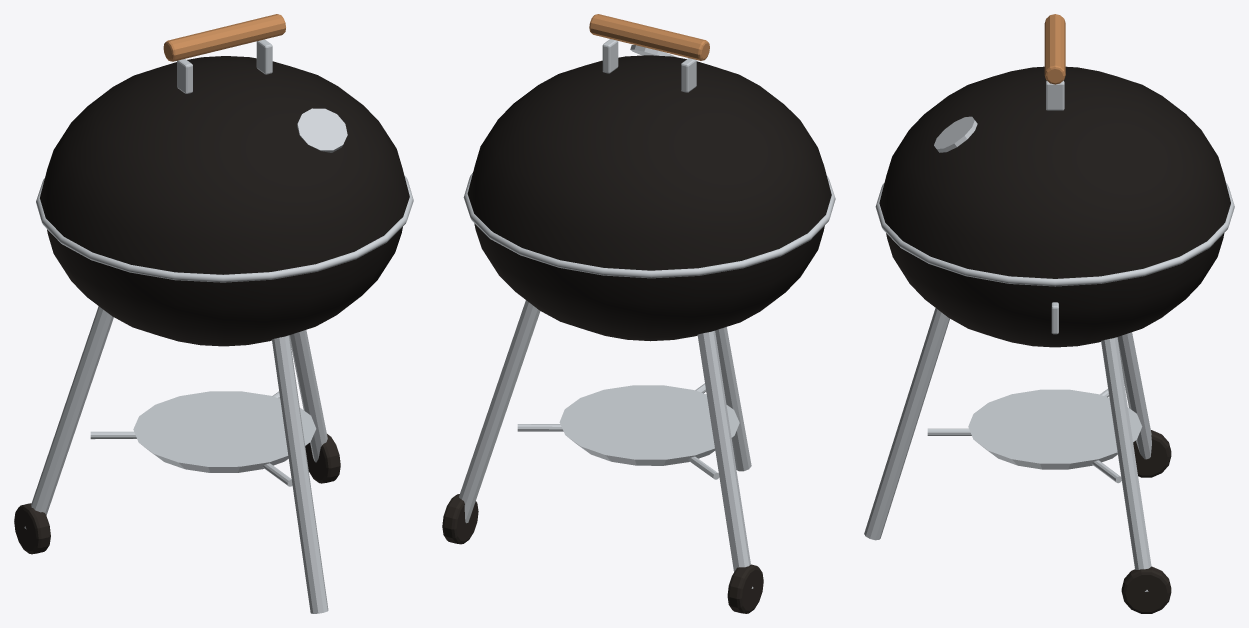
Rendered from hh_cat_barbecue.glb.
3 views of the same model, side by side, from view 1: azimuth 30°, elevation 25°; view 2: azimuth 150°, elevation 25°; view 3: azimuth 270°, elevation 25° (orthographic). The views are drawn at different scales.
Parts seen in each view (by area): view 1: lid, bowl, ash_pan, leg, leg.002, lid_rim, lid_handle, leg.001, vent, wheel.001, wheel, handle_bracket.001; view 2: lid, bowl, ash_pan, leg.002, leg.001, lid_rim, lid_handle, leg, wheel.001, wheel; view 3: lid, bowl, ash_pan, leg, leg.001, lid_rim, leg.002, wheel, lid_handle, wheel.001, vent, handle_bracket.001.
Part boxes in pixels (x1,y1,x2,y2): lid: (40,56,409,274); bowl: (47,227,402,346); ash_pan: (133,391,316,472); leg: (272,335,328,613); leg.002: (24,306,113,529); lid_rim: (36,175,413,282); lid_handle: (163,14,285,61); leg.001: (289,330,327,462); vent: (297,108,347,152); wheel.001: (14,503,50,554); wheel: (305,434,340,483); handle_bracket.001: (256,39,272,74); lid: (467,55,831,270); bowl: (474,223,824,341); ash_pan: (559,385,739,465); leg.002: (697,330,753,588); leg.001: (459,300,540,523); lid_rim: (463,173,835,278); lid_handle: (589,14,709,60); leg: (715,327,751,471); wheel.001: (727,564,763,613); wheel: (442,494,478,544); lid: (879,66,1230,278); bowl: (886,233,1224,347); ash_pan: (968,389,1142,469); leg: (864,308,949,540); leg.001: (1101,337,1151,591); lid_rim: (875,183,1234,286); leg.002: (1117,332,1151,459); wheel: (1121,566,1171,613); lid_handle: (1044,14,1065,84); wheel.001: (1133,430,1171,477); vent: (934,116,977,152); handle_bracket.001: (1046,80,1064,110).
Size of the model in its own units: 0.6 by 0.9 by 0.6.
